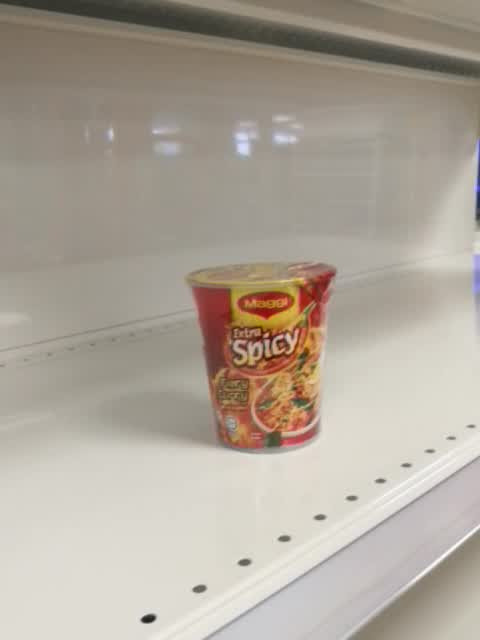maggi: (183, 261, 336, 455)
